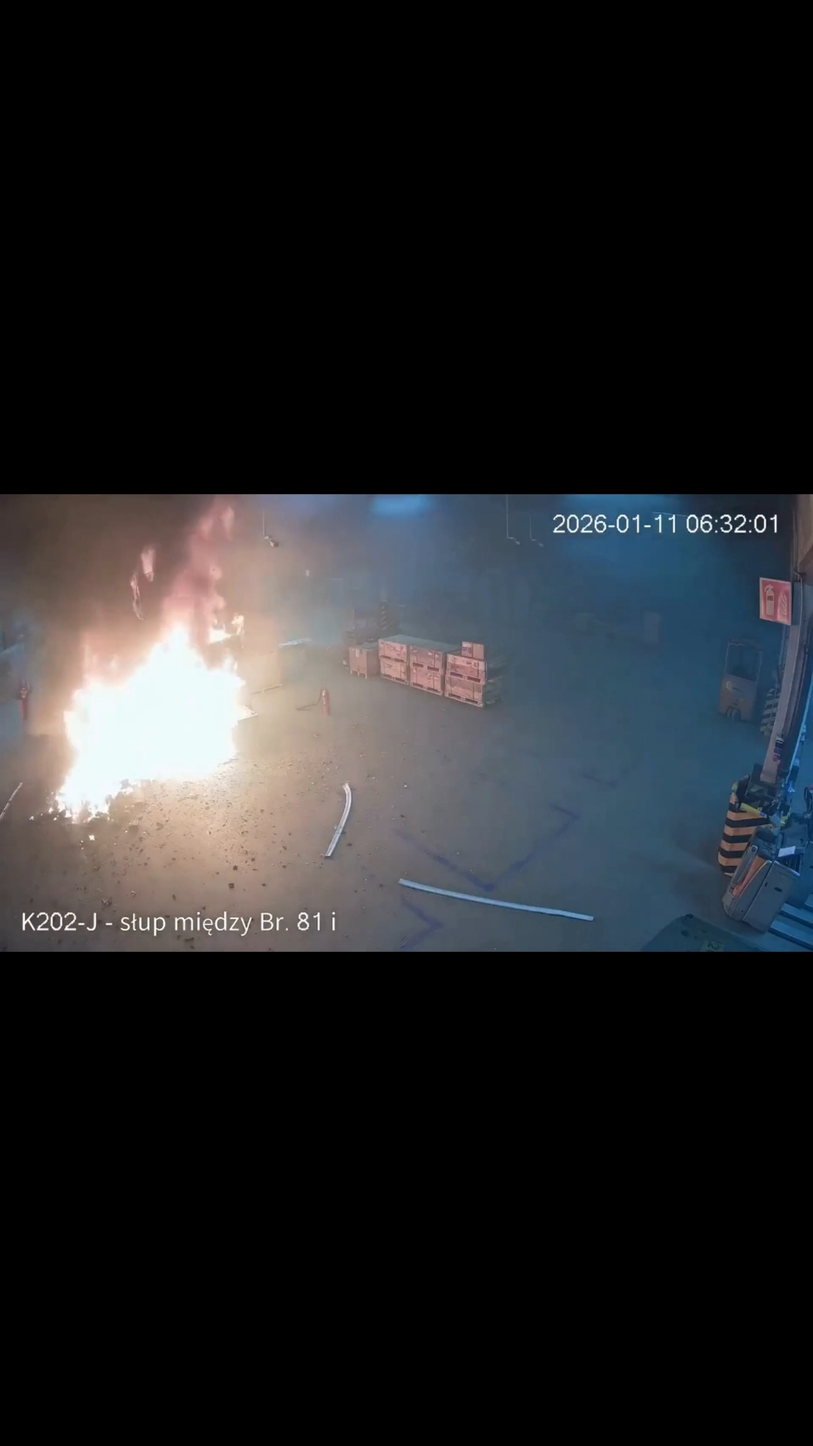fire: (48, 547, 258, 832)
smoke: (63, 495, 404, 664)
